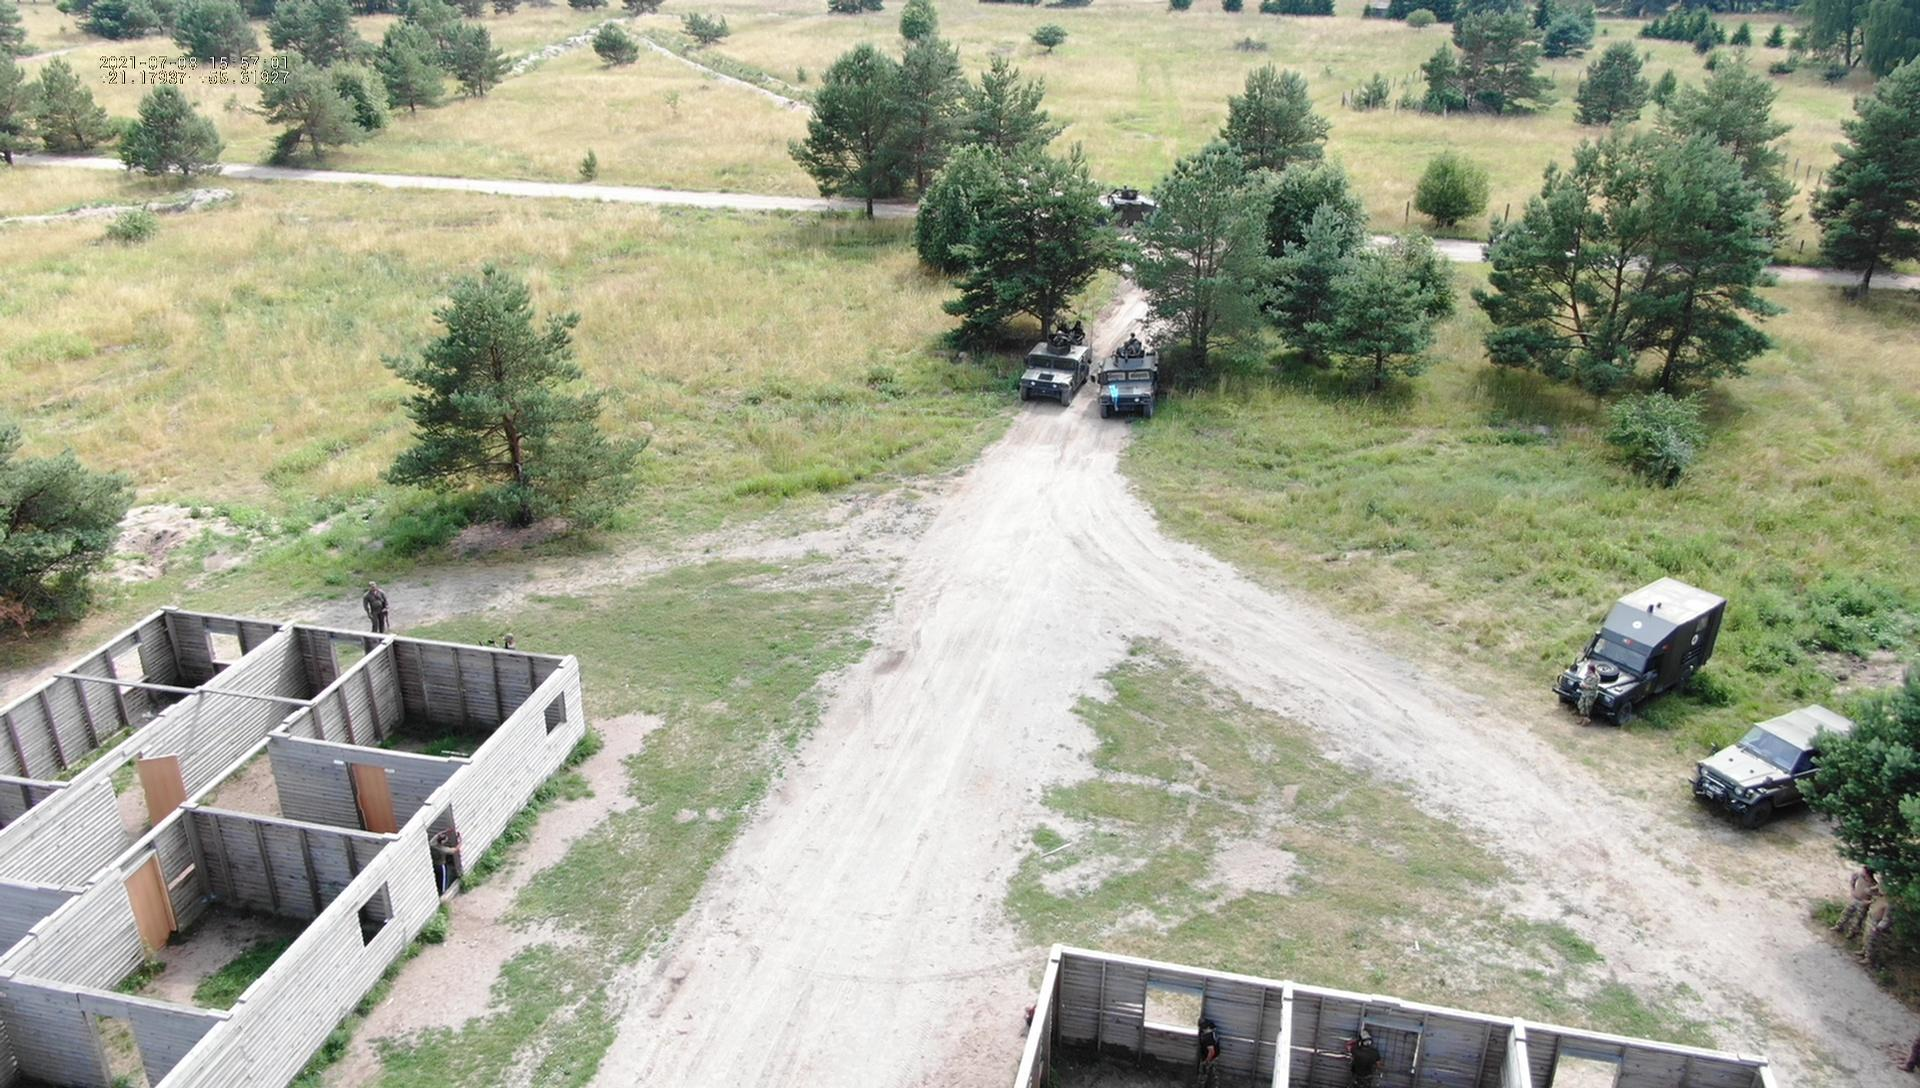Soldier: (1335, 1019, 1404, 1087), (1838, 856, 1875, 935), (1862, 881, 1898, 960), (1576, 655, 1609, 721), (363, 584, 397, 630), (1046, 322, 1069, 346), (1122, 339, 1145, 364)
